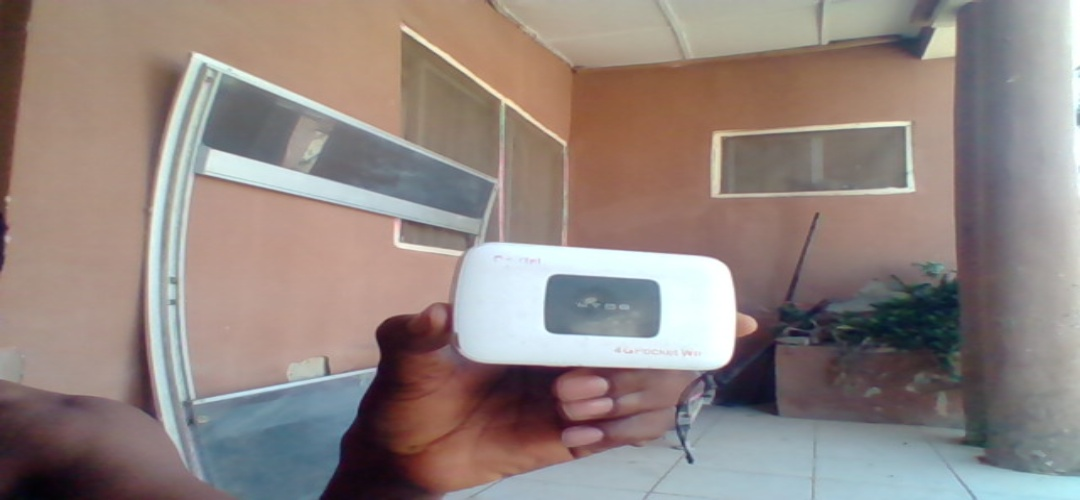mifi: (448, 236, 737, 376)
